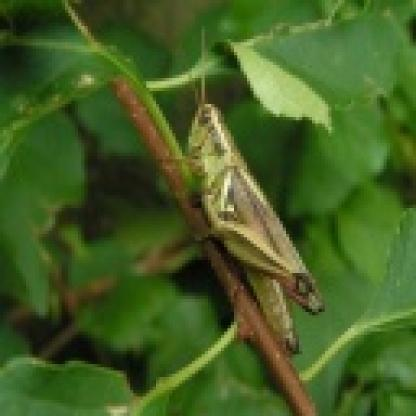grasshopper: (177, 82, 327, 356)
